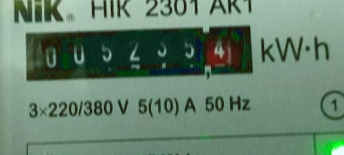0: (43, 42, 61, 68), (72, 38, 87, 64)
2: (127, 34, 142, 60)
3: (155, 31, 170, 57)
4: (212, 32, 228, 59)
5: (99, 36, 115, 63), (182, 31, 198, 58)
screen: (15, 10, 266, 92)
